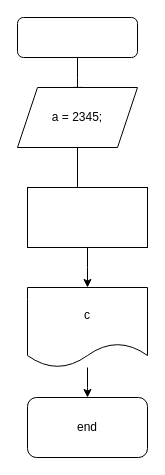
Some shapes in this 165 by 475 pixel diagram are drawn without their labels. Here are the shapes that lost their labels. From the top down, the centre of each, then its label:
[77,37]: start
[87,217]: c = b * 10 + 8;
